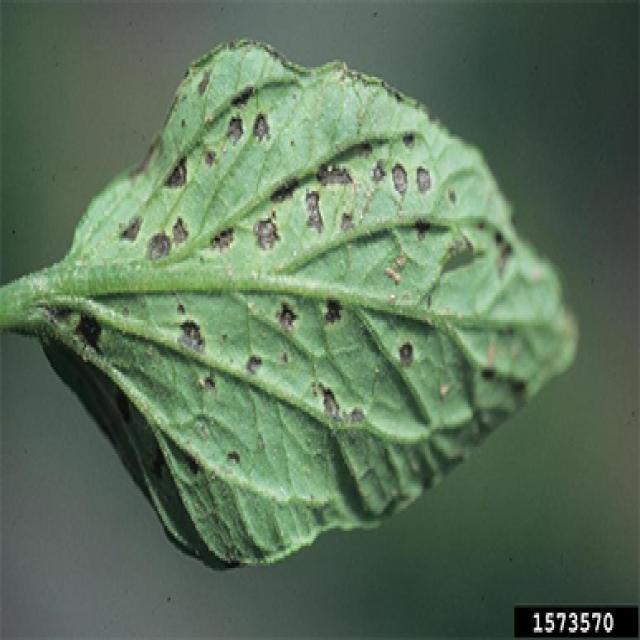Bacterial Spot: (119, 110, 479, 448)
